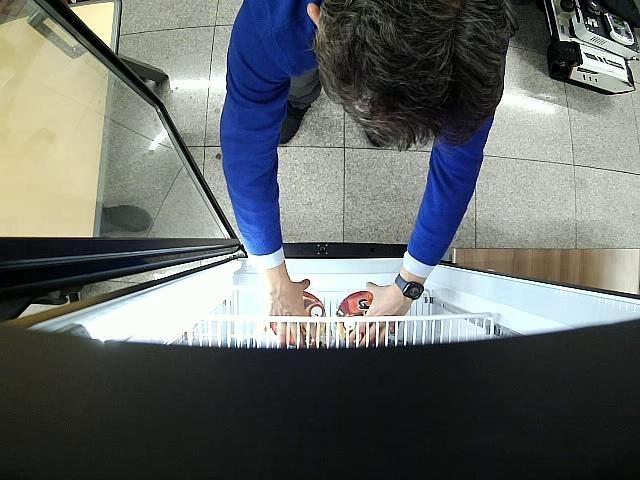05_nuguri_L: (272, 290, 324, 344), (335, 290, 373, 344)
